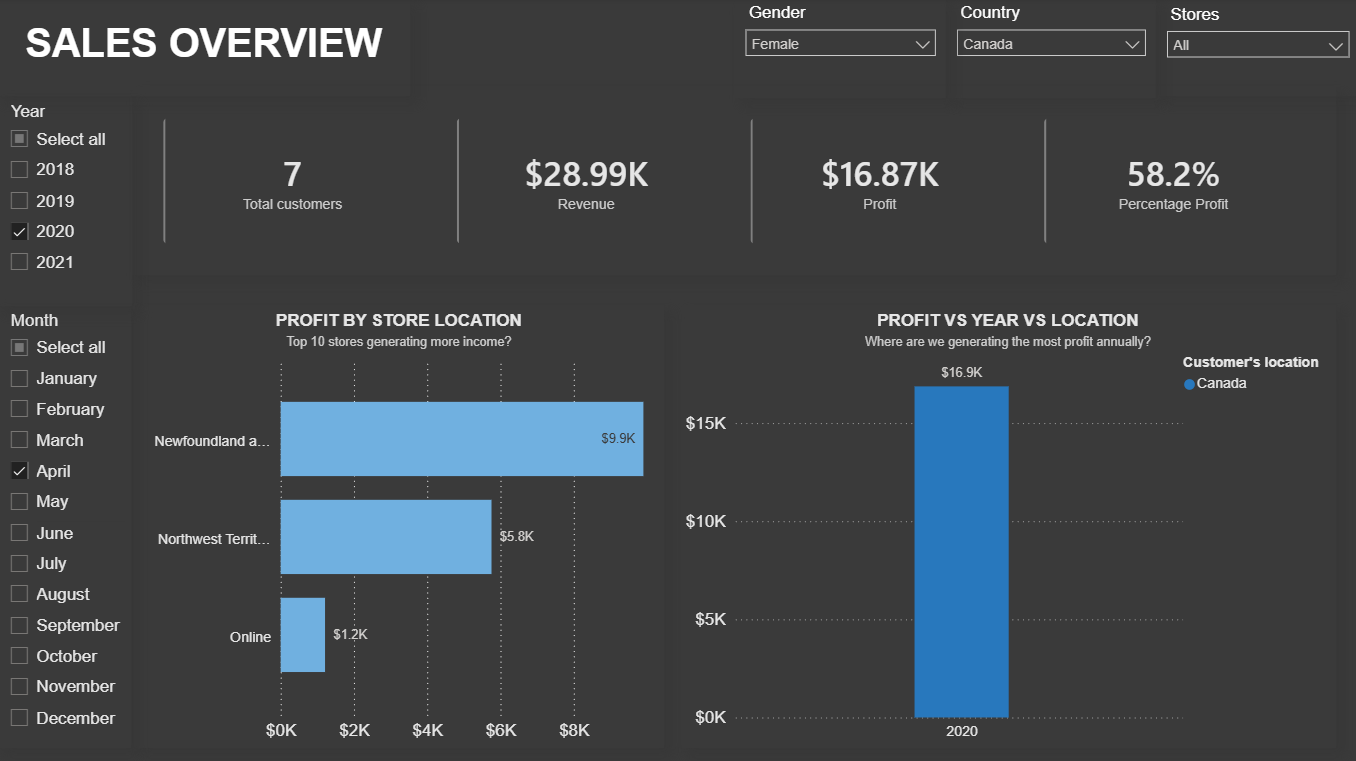

Layout of this report page (visuals, bound fields, positions):
{"tool":"powerbi","page":{"name":"OVERVIEW","canvas":[1280,720],"ordinal":0},"visuals":[{"type":"slicer","fields":{"Values":["Customers.Country"]},"box":[892.1,0,197.4,94.7],"z":1000,"group":"g1"},{"type":"slicer","fields":{"Values":["Sales.Order Date.Variation.Date Hierarchy.Year"]},"box":[0,93.6,127.5,197.2],"z":3000,"group":"g1"},{"type":"slicer","fields":{"Values":["Sales.Order Date.Variation.Date Hierarchy.Month"]},"box":[0,289.2,125.7,416.4],"z":5000,"group":"g1"},{"type":"slicer","fields":{"Values":["Stores.State"]},"box":[1089.5,1.6,191.1,91.6],"z":8000,"group":"g1"},{"type":"cardVisual","fields":{"Data":["_Measures.Total customers","_Measures.Revenue","_Measures.profit","_Measures.% profit"]},"box":[126.3,85.3,1132.1,176.8],"z":13000},{"type":"clusteredColumnChart","title":"PROFIT VS YEAR VS LOCATION","fields":{"Series":["Customers.Country"],"Y":["_Measures.profit"],"Category":["Sales.Order Date.Variation.Date Hierarchy.Year"]},"box":[641.1,289,617.4,416.8],"z":14000},{"type":"barChart","title":"PROFIT BY STORE LOCATION","fields":{"Y":["_Measures.profit"],"Category":["Inland stores.State"]},"box":[127.9,289,499,416.8],"z":15000},{"type":"textbox","box":[0,2,388.4,91.6],"z":17000},{"type":"slicer","fields":{"Values":["Customers.Gender"]},"box":[693.2,0,198.9,94.7],"z":18000,"group":"g1"},{"type":"group","id":"g1","title":"Sliders","box":[0,0,1280.5,705.6],"z":18001}]}

Visuals, with their boxes in screenshot pixels (x1, y1, x2, y2), scaled from the page's 1280x720 canvas onto the 1356x761 screenshot:
slicer - Customers.Country: (945, 0, 1154, 100)
slicer - Sales.Order Date.Variation.Date Hierarchy.Year: (0, 99, 135, 307)
slicer - Sales.Order Date.Variation.Date Hierarchy.Month: (0, 306, 133, 746)
slicer - Stores.State: (1154, 2, 1355, 99)
cardVisual - _Measures.Total customers x _Measures.Revenue: (134, 90, 1333, 277)
"PROFIT VS YEAR VS LOCATION" clusteredColumnChart: (679, 305, 1333, 746)
"PROFIT BY STORE LOCATION" barChart: (135, 305, 664, 746)
textbox: (0, 2, 411, 99)
slicer - Customers.Gender: (734, 0, 945, 100)
"Sliders" group: (0, 0, 1355, 746)
